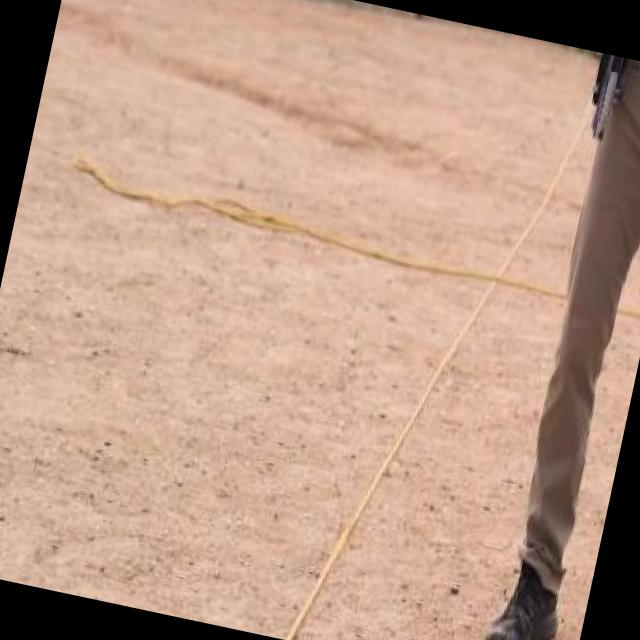Guns: (561, 48, 640, 153)
